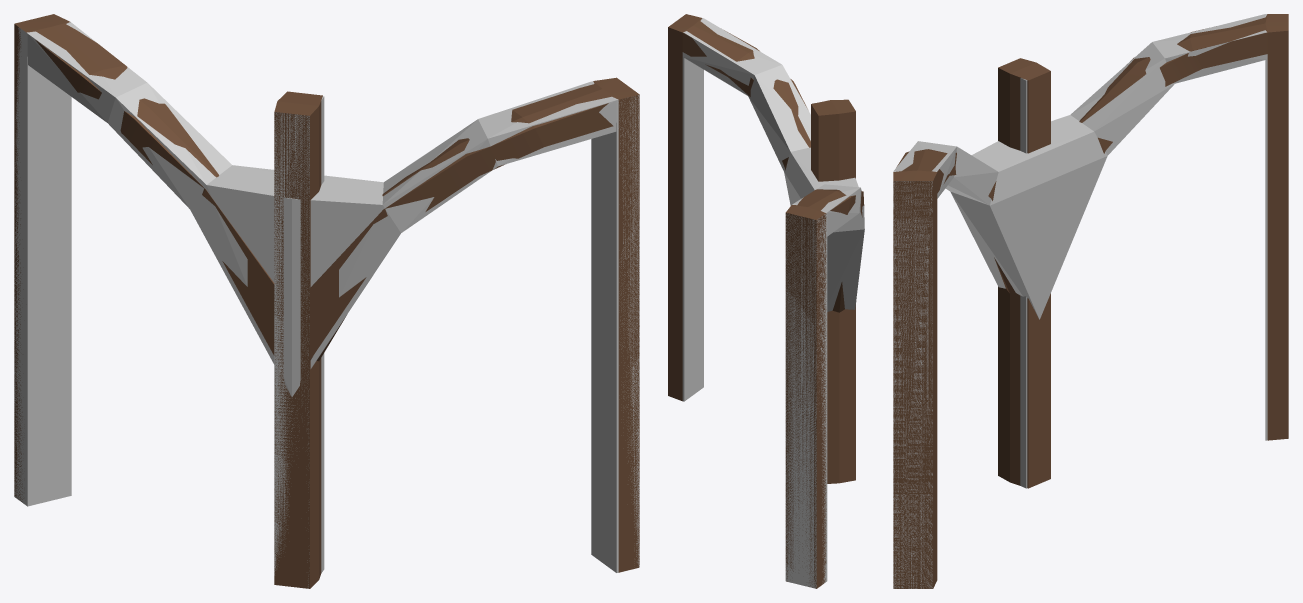
Rendered from SM_Bld_Wall_Frame_Curved_01.fbx.
The picture shows the model from 3 angles, left to right: view 1: azimuth 30°, elevation 25°; view 2: azimuth 150°, elevation 25°; view 3: azimuth 270°, elevation 25°; orthographic projection. The views are drawn at different scales.
Parts seen in each view (by area): view 1: SM_Bld_Wall_Frame_Curved_01_ConvexHulls, SM_Bld_Wall_Frame_Curved_01; view 2: SM_Bld_Wall_Frame_Curved_01, SM_Bld_Wall_Frame_Curved_01_ConvexHulls; view 3: SM_Bld_Wall_Frame_Curved_01, SM_Bld_Wall_Frame_Curved_01_ConvexHulls.
Boxes of the visible parts, <box> form: SM_Bld_Wall_Frame_Curved_01_ConvexHulls: <box>14,22,639,588</box>; SM_Bld_Wall_Frame_Curved_01: <box>14,14,639,588</box>; SM_Bld_Wall_Frame_Curved_01: <box>668,14,864,588</box>; SM_Bld_Wall_Frame_Curved_01_ConvexHulls: <box>682,18,864,588</box>; SM_Bld_Wall_Frame_Curved_01: <box>893,14,1288,588</box>; SM_Bld_Wall_Frame_Curved_01_ConvexHulls: <box>893,14,1267,588</box>.
Size of the model in its own units: 263 by 263 by 301.
Materials: 2 (1 with a texture image).
